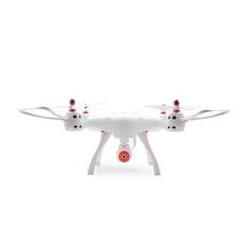drone: (17, 95, 236, 178)
